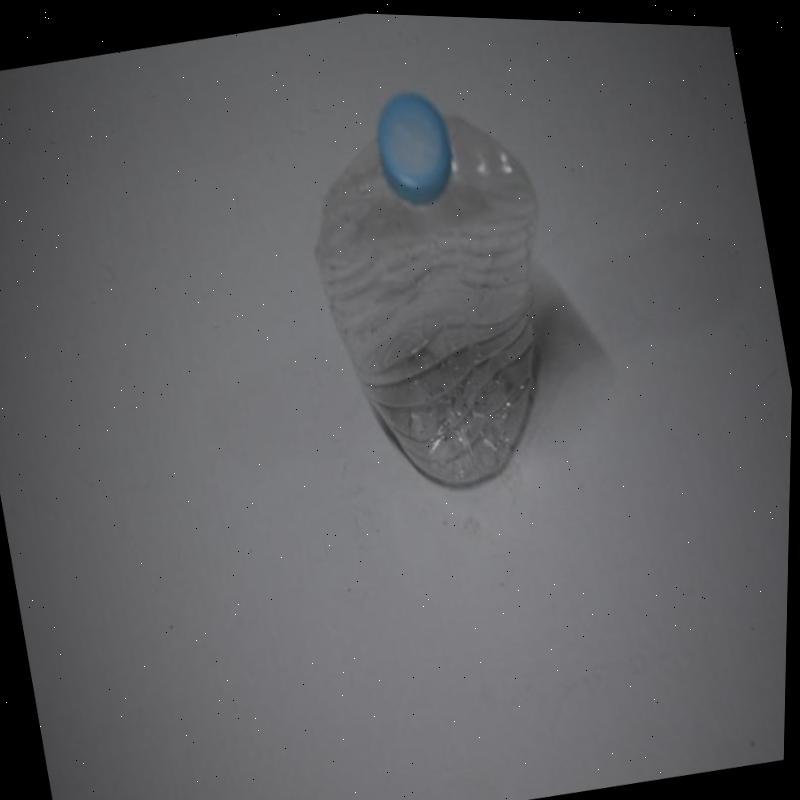botella: (283, 64, 592, 505)
